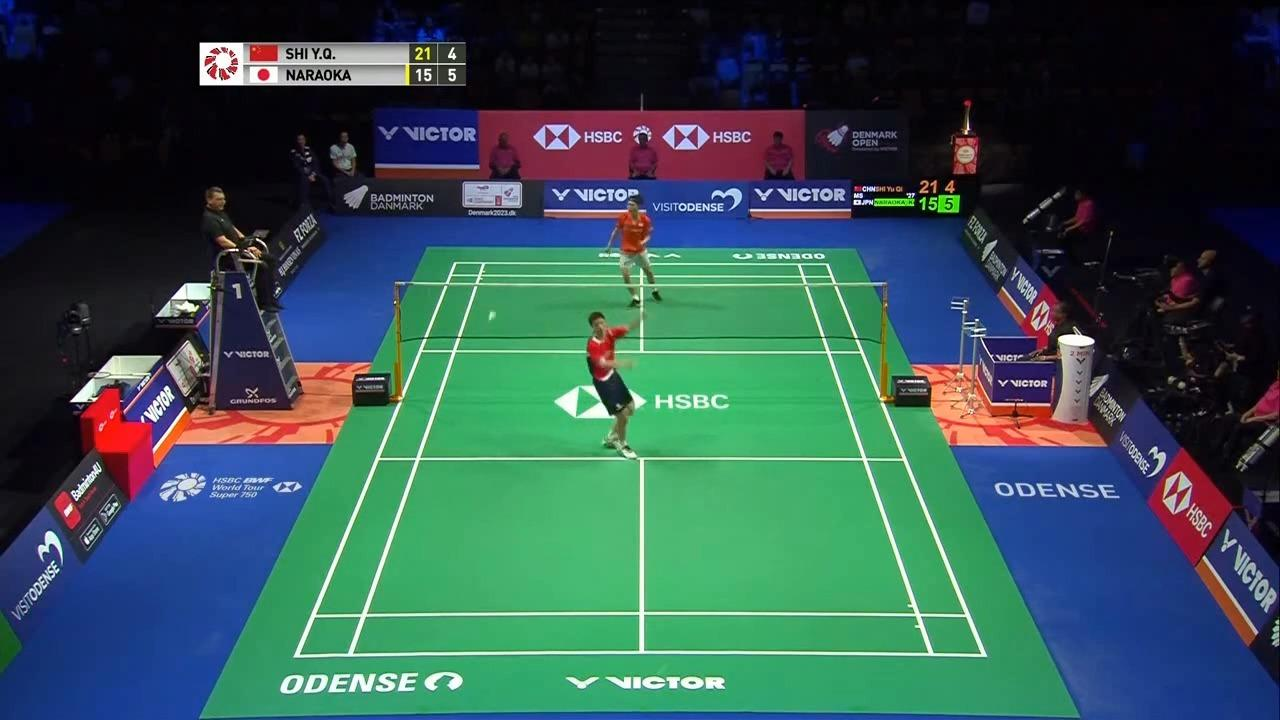shuttle: (484, 310, 498, 324)
